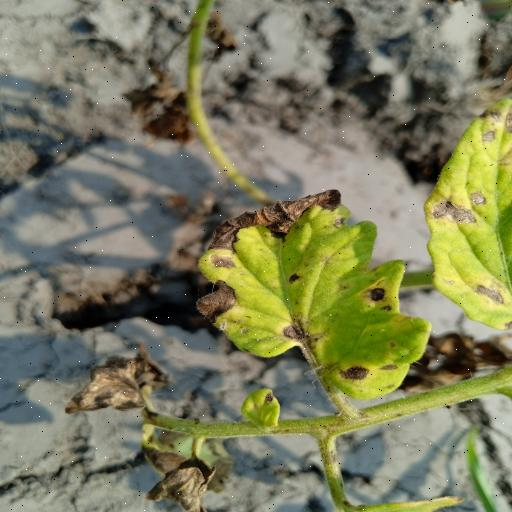Tomato_Brown_Spots: (196, 187, 431, 406), (424, 90, 512, 345)
